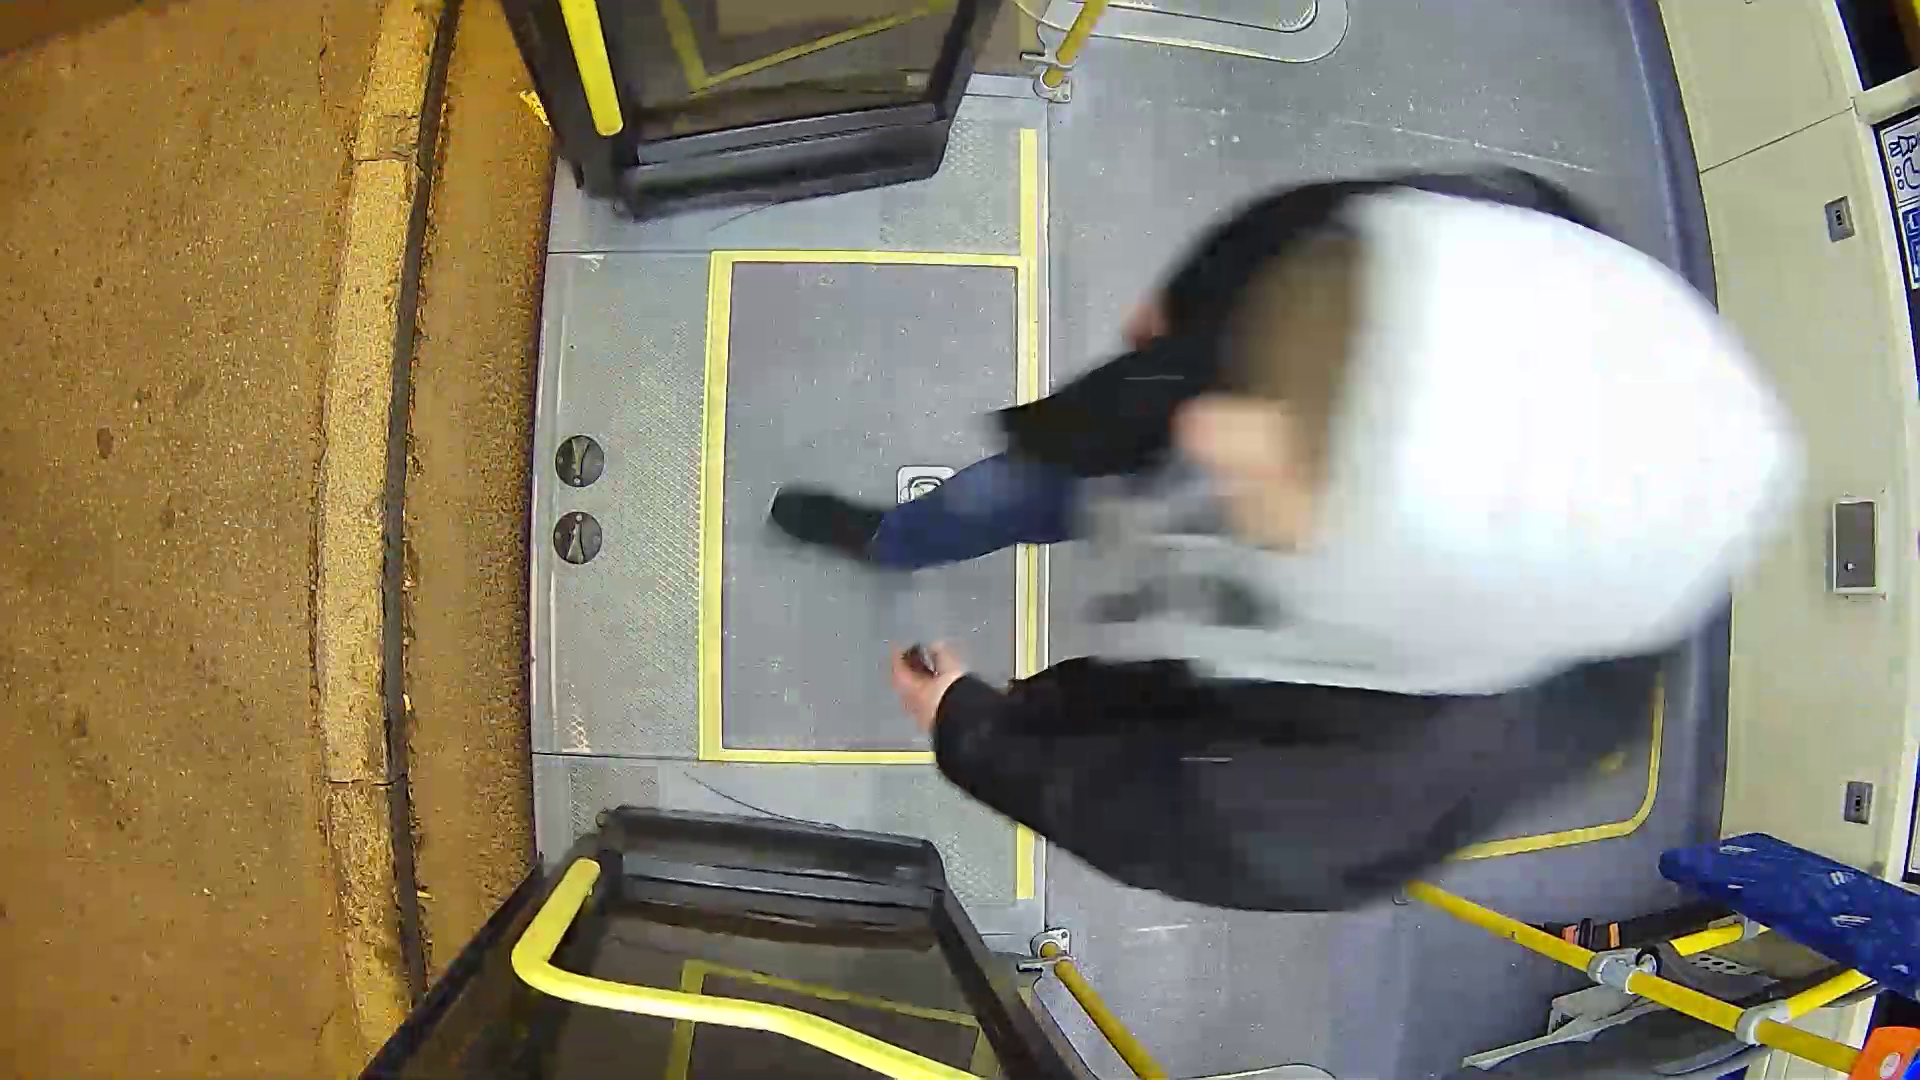person: (814, 122, 1779, 883)
